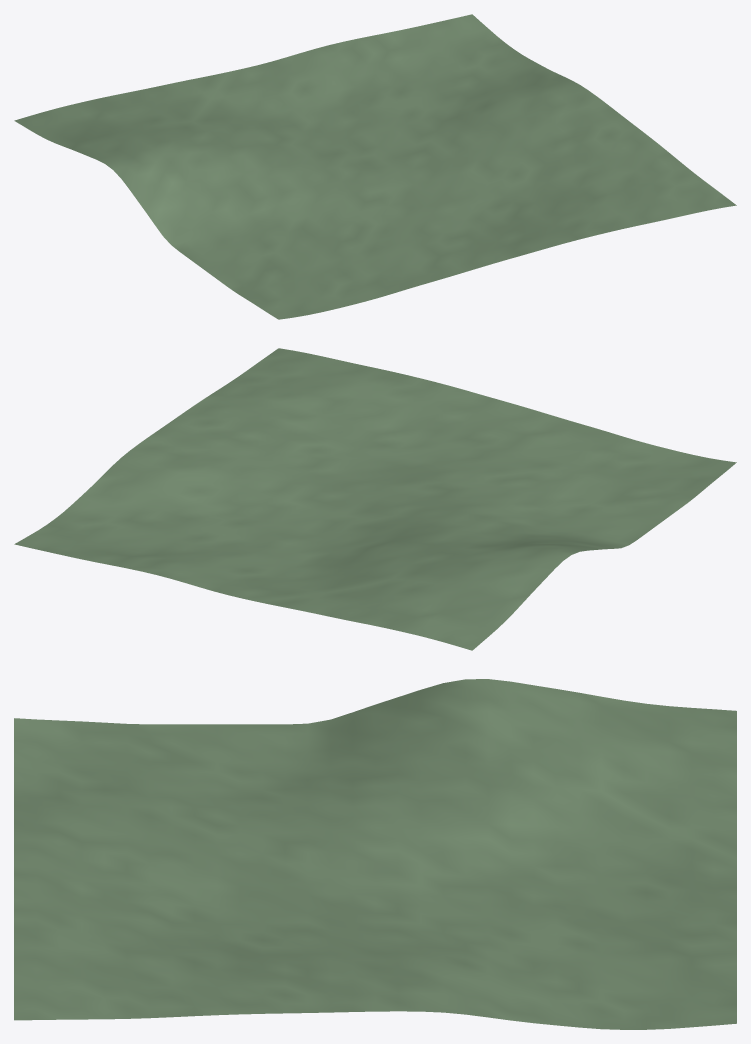
3 views of the same model, one above another, from view 1: azimuth 30°, elevation 25°; view 2: azimuth 150°, elevation 25°; view 3: azimuth 270°, elevation 25° (orthographic). The views are drawn at different scales.
Parts seen in each view (by area): view 1: Terrain-col; view 2: Terrain-col; view 3: Terrain-col.
Part boxes in pixels (x1,y1,x2,y2): Terrain-col: [14, 14, 736, 319]; Terrain-col: [14, 348, 736, 650]; Terrain-col: [14, 679, 736, 1029].
Size of the model in its own units: 256 by 17.89 by 256.
